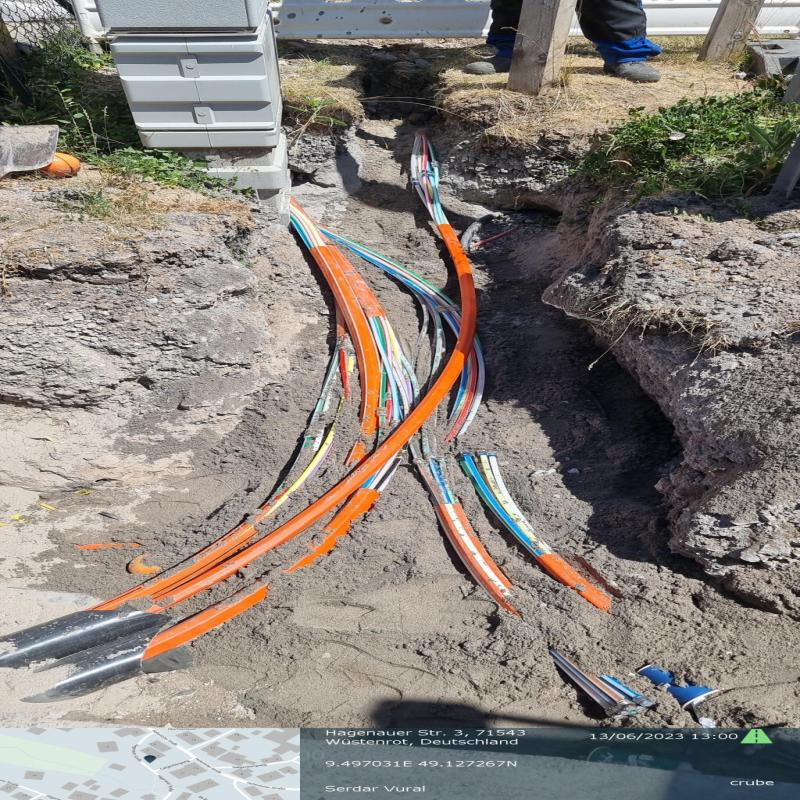Kugelmarker: (43, 152, 78, 179)
Orang-Speednetrohrchen: (103, 163, 476, 610), (300, 238, 412, 461), (455, 451, 610, 607), (411, 456, 513, 596)
